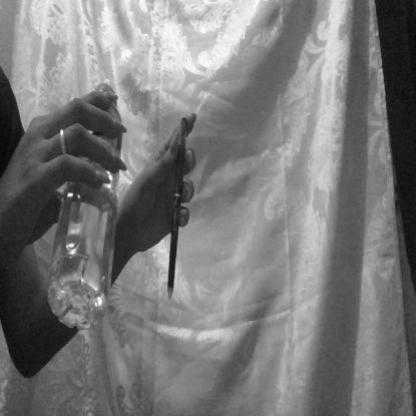Plastic Bottle: (36, 40, 130, 363)
